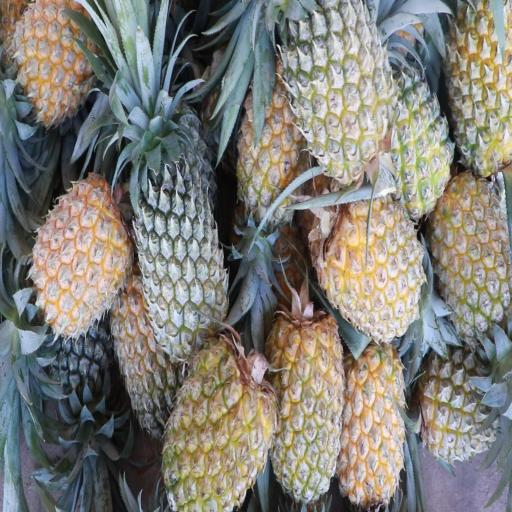------------------------------: (282, 0, 395, 174), (436, 185, 512, 329), (451, 12, 512, 177), (114, 287, 178, 441), (422, 354, 504, 466)
Pineapple - v8 v1: (161, 345, 277, 512), (320, 186, 421, 334), (269, 310, 343, 496), (36, 188, 129, 332), (14, 0, 104, 117), (341, 348, 405, 503), (382, 72, 450, 209), (238, 77, 301, 220)
